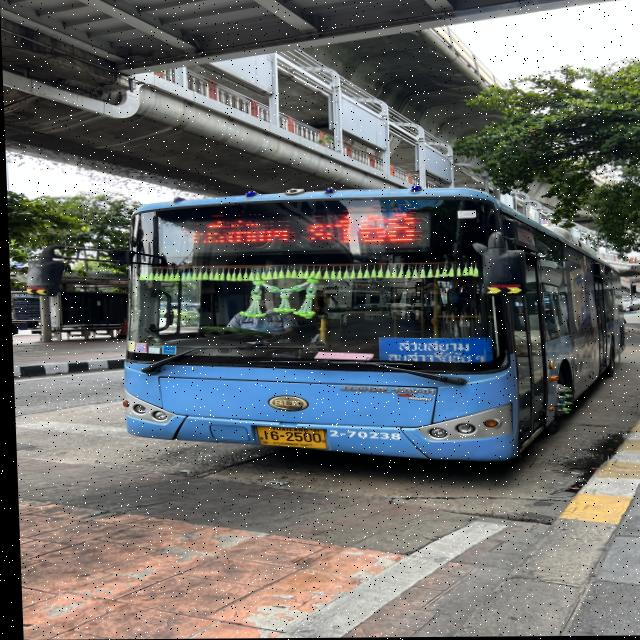BMTA-bus: (120, 189, 623, 465)
Bus Line Number: (329, 207, 422, 249)
Bus Side Number: (322, 423, 405, 444)
Destination Sign: (376, 337, 494, 366)
